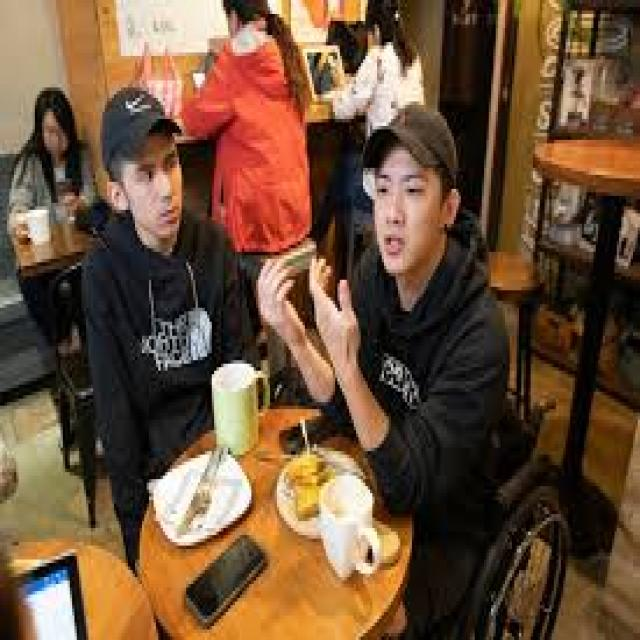wheelchairs: (400, 284, 589, 636)
